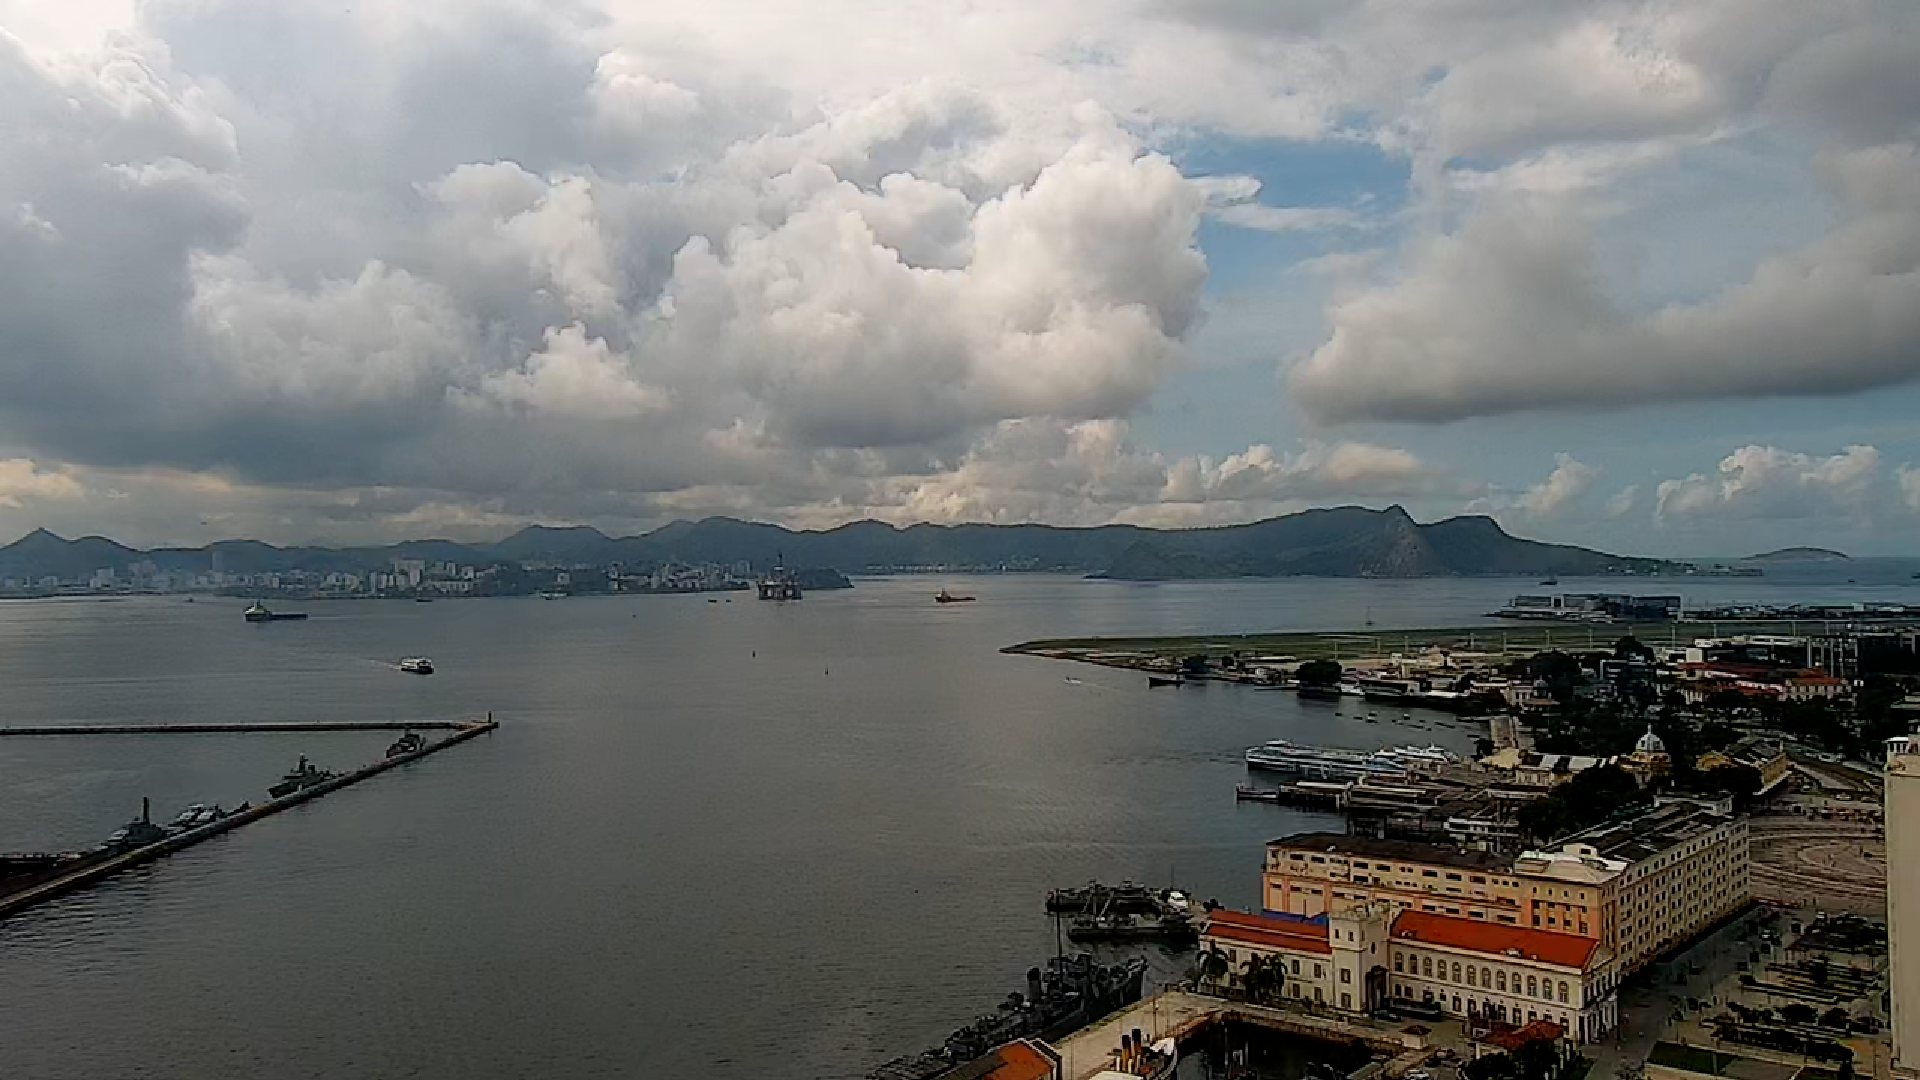Ship0: (1046, 872, 1160, 919)
Ship1: (396, 651, 439, 678)
Ship5: (237, 600, 314, 628), (932, 585, 978, 608)
